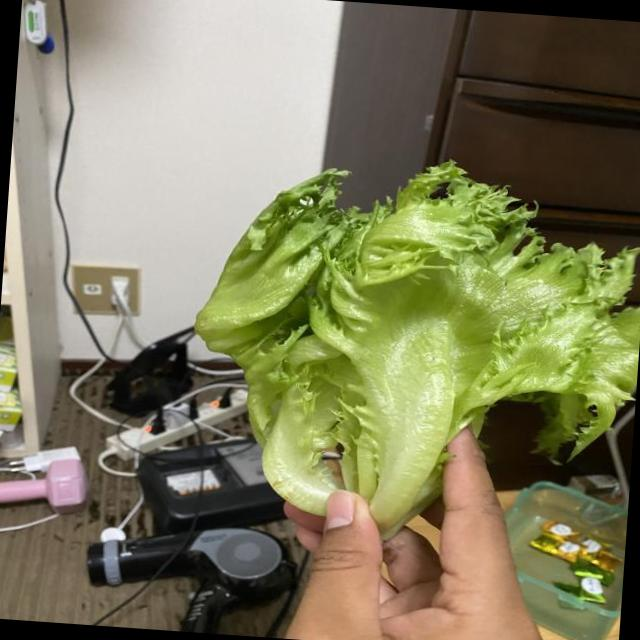Lettuce-Ready-to-Harvest: (195, 163, 640, 535)
